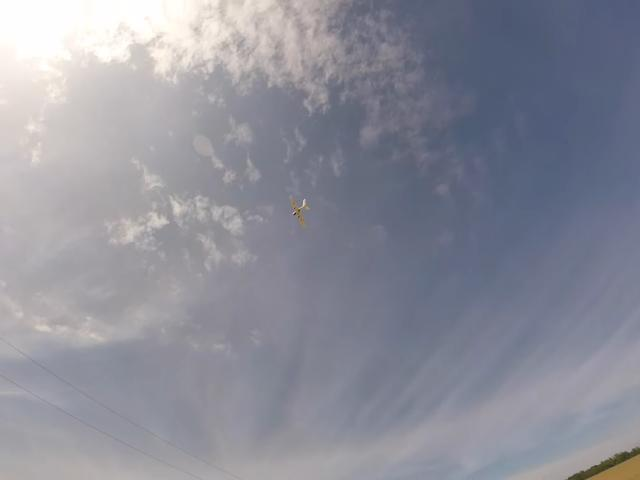plane: (290, 198, 310, 226)
